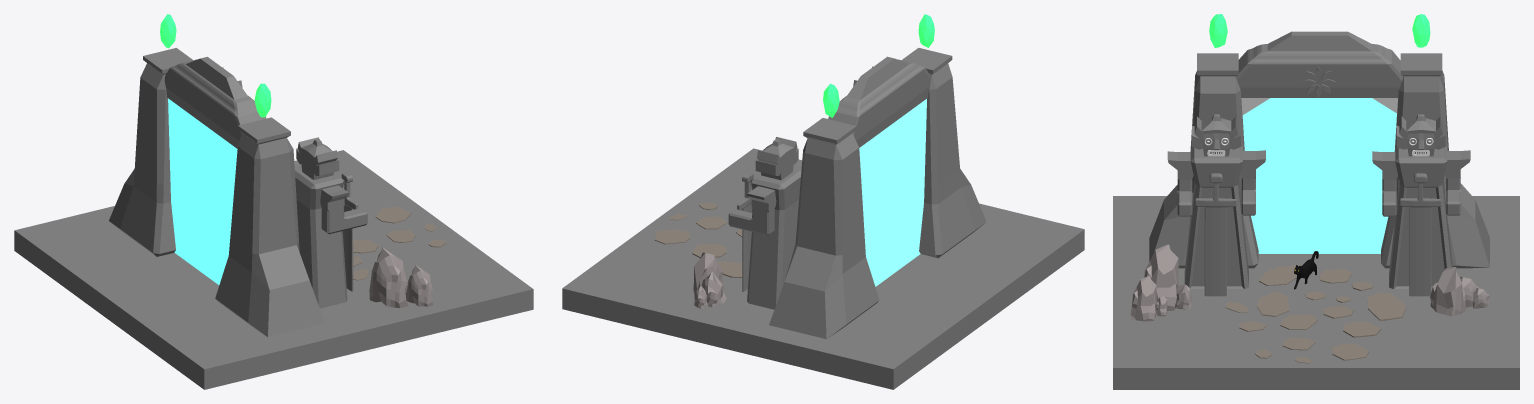
The model's file is portal_and_cat.glb.
3 renders of one model, left to right at view 1: azimuth 30°, elevation 25°; view 2: azimuth 150°, elevation 25°; view 3: azimuth 270°, elevation 25°, orthographic. The views are drawn at different scales.
Visible parts, largest first — view 1: Object_7, Object_4, Object_9, Object_3, Object_6; view 2: Object_7, Object_4, Object_3, Object_9, Object_6; view 3: Object_7, Object_4, Object_3, Object_9, Object_6, Object_5, Object_8, Object_2.
Boxes of the visible parts, box(x1,y1,x2,y2) form: Object_7: box(14, 48, 533, 389); Object_4: box(168, 98, 237, 284); Object_9: box(369, 247, 433, 308); Object_3: box(353, 207, 446, 280); Object_6: box(160, 14, 271, 117); Object_7: box(562, 47, 1084, 389); Object_4: box(859, 99, 926, 286); Object_3: box(654, 203, 742, 277); Object_9: box(693, 252, 726, 308); Object_6: box(823, 14, 934, 117); Object_7: box(1113, 31, 1519, 389); Object_4: box(1242, 98, 1396, 253); Object_3: box(1225, 265, 1406, 363); Object_9: box(1130, 244, 1490, 321); Object_6: box(1209, 14, 1430, 47); Object_5: box(1241, 98, 1397, 115); Object_8: box(1204, 138, 1433, 156); Object_2: box(1294, 251, 1318, 289).
Size of the model in its own units: 9.8 by 6.93 by 9.8.
